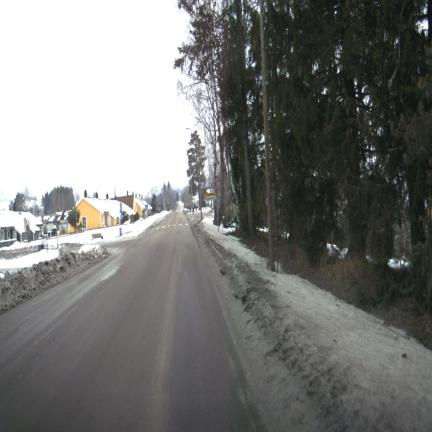Road: (0, 213, 258, 430)
